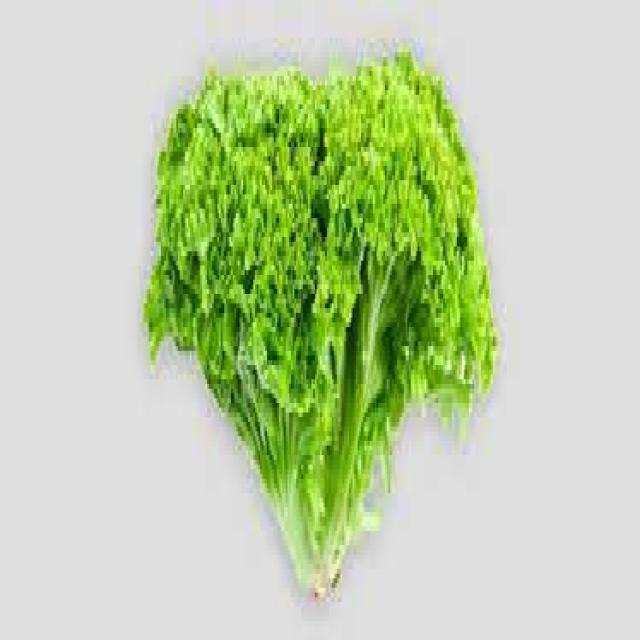Lettuce: (143, 46, 500, 601)
